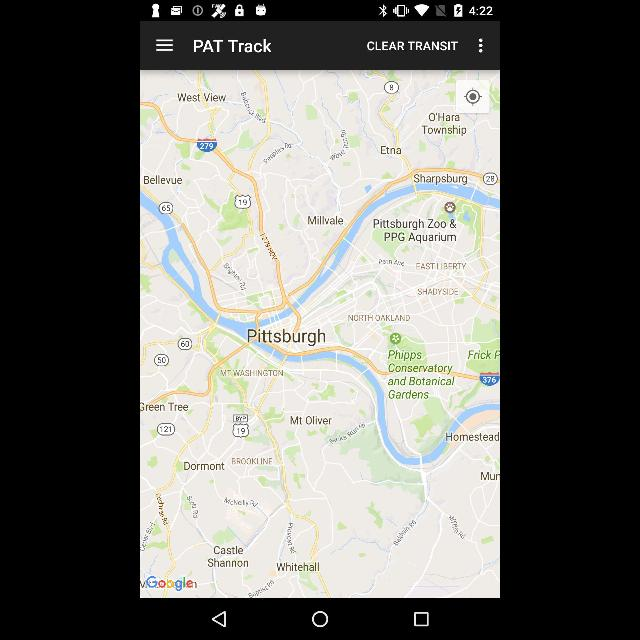icon: (463, 88, 482, 105), (312, 610, 328, 628), (212, 610, 226, 628), (414, 612, 428, 626), (157, 40, 173, 50), (480, 39, 482, 53)
map: (140, 70, 500, 598)
panel: (140, 598, 500, 640)
text: (192, 39, 272, 53), (368, 41, 458, 50)
toolbar: (140, 22, 500, 70)
uppertaskbar: (140, 0, 500, 20)
